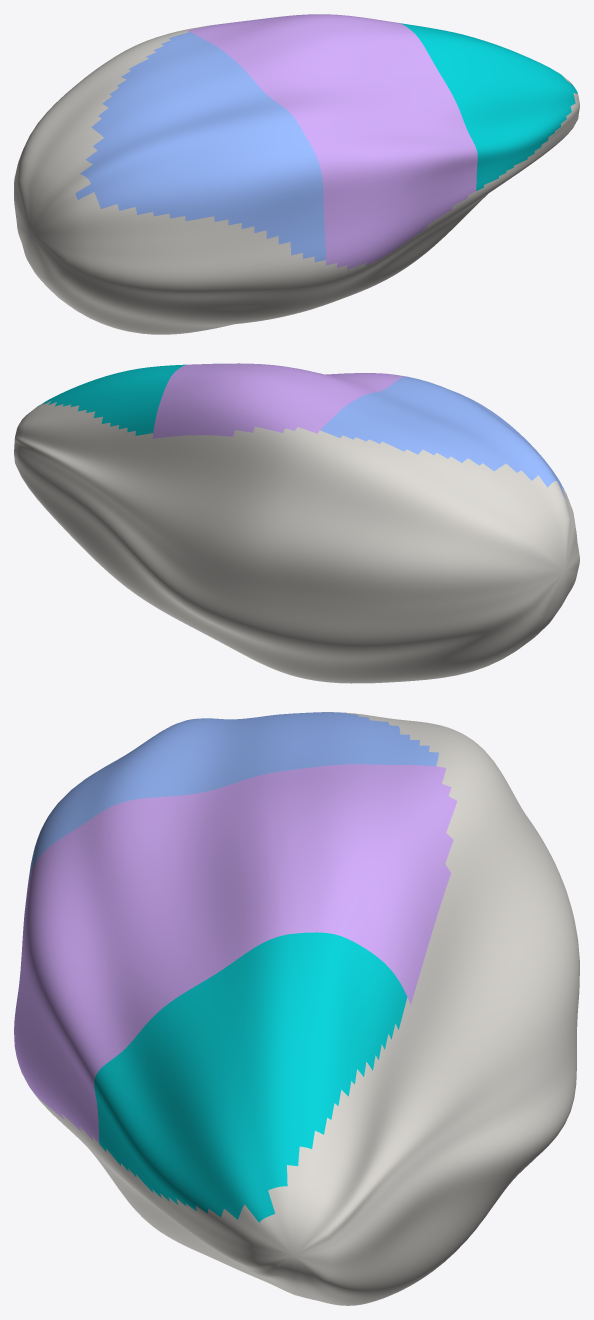
Rendered from mimic-core-a-directed-fold.glb.
The picture shows the model from 3 angles, top to bottom: view 1: azimuth 30°, elevation 25°; view 2: azimuth 150°, elevation 25°; view 3: azimuth 270°, elevation 25°; orthographic projection. The views are drawn at different scales.
Visible parts, largest first — view 1: MimicCore_A_directed-fold; view 2: MimicCore_A_directed-fold; view 3: MimicCore_A_directed-fold.
Part boxes in pixels (x1,y1,x2,y2): MimicCore_A_directed-fold: [14, 14, 579, 334]; MimicCore_A_directed-fold: [14, 363, 579, 683]; MimicCore_A_directed-fold: [14, 712, 579, 1305].
Bounding box in the file's own units: 6.8 × 3.2 × 3.6.
